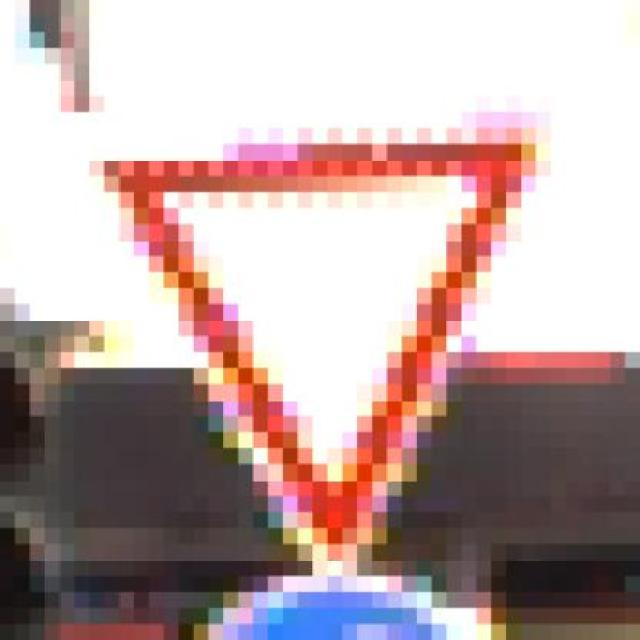Give Way: (74, 118, 580, 582)
